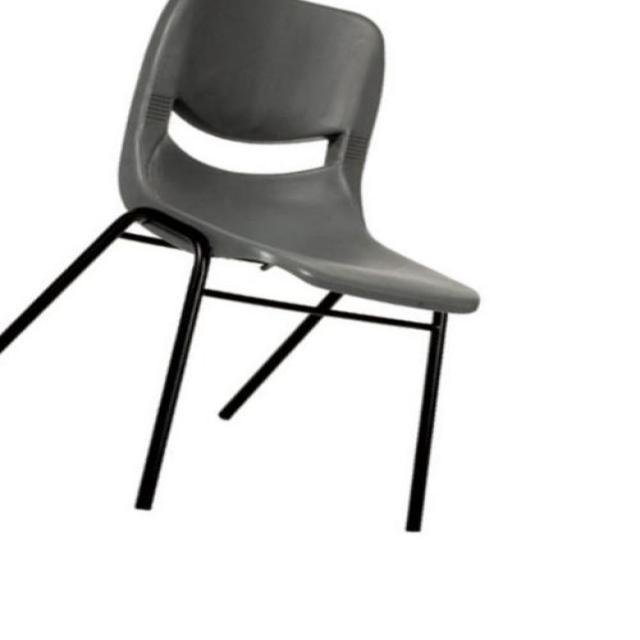chair: (6, 1, 484, 536)
